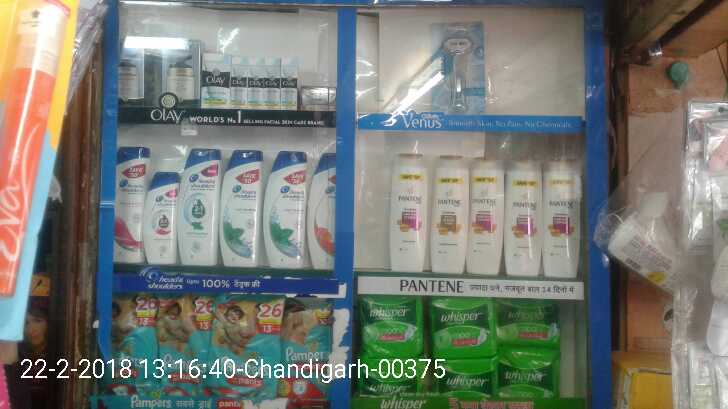venus: (432, 19, 485, 112)
